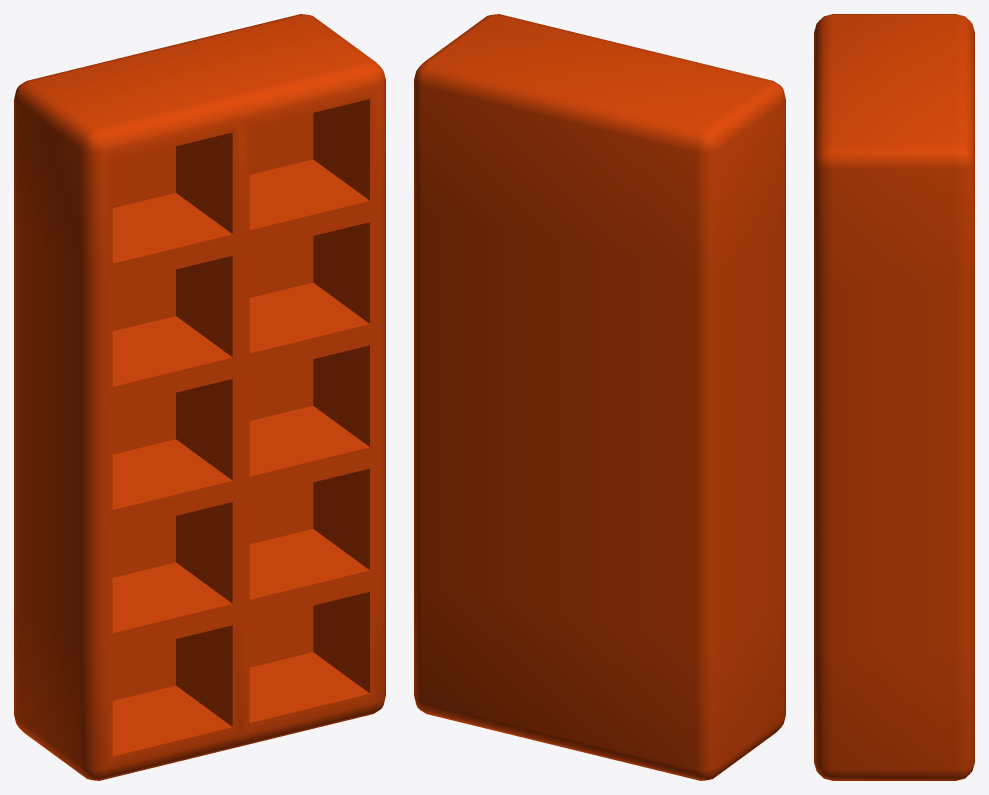
Rendered from Shelf_2V.fbx.
3 views of the same model, side by side, from view 1: azimuth 30°, elevation 25°; view 2: azimuth 150°, elevation 25°; view 3: azimuth 270°, elevation 25° (orthographic). The views are drawn at different scales.
Parts seen in each view (by area): view 1: Shelf_2V; view 2: Shelf_2V; view 3: Shelf_2V.
Part boxes in pixels (box(x1,y1,x2,y2)): Shelf_2V: box(14, 14, 385, 780); Shelf_2V: box(414, 14, 785, 780); Shelf_2V: box(814, 14, 974, 780).
Bounding box in the file's own units: 1.01 × 2.07 × 0.4751.
